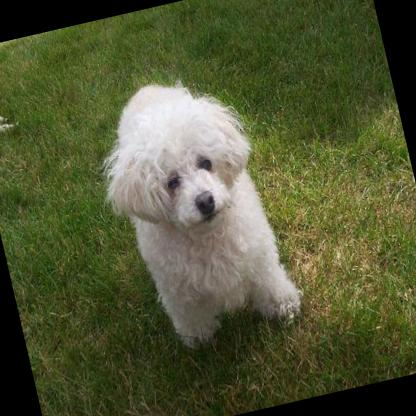toy_poodle: (76, 59, 309, 359)
